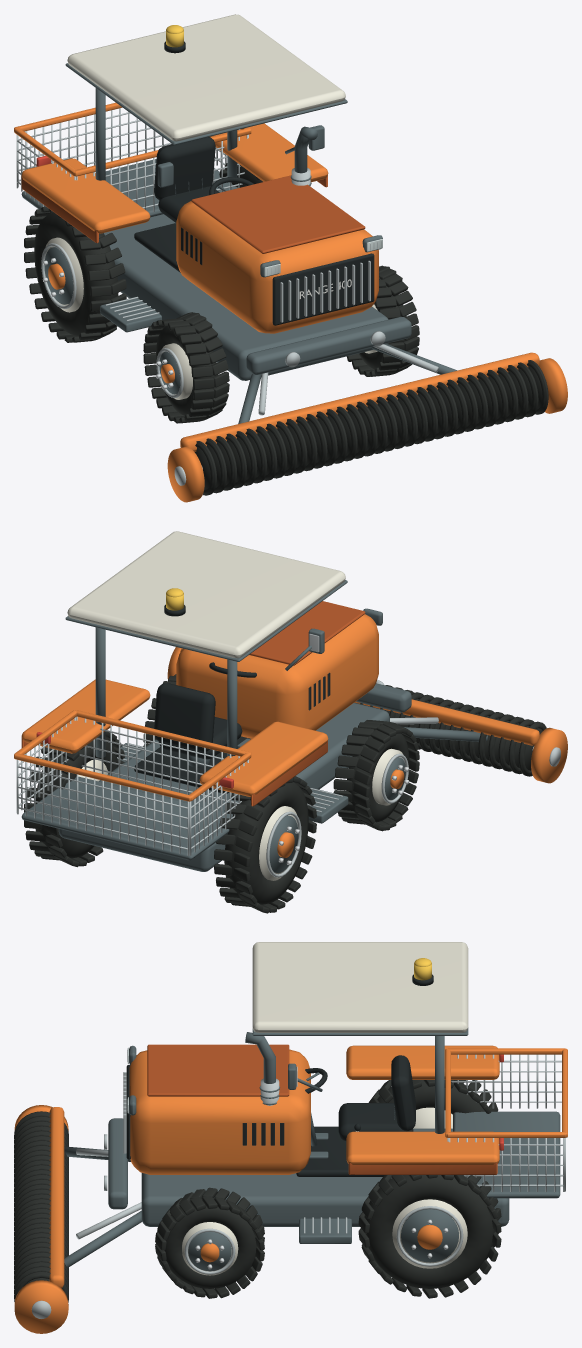
File: tractor-picker.glb
3 views of the same model, one above another, from view 1: azimuth 30°, elevation 25°; view 2: azimuth 150°, elevation 25°; view 3: azimuth 270°, elevation 25° (orthographic).
Parts seen in each view (by area): view 1: Hood, Chassis, Canopy, PickupDisk, Grille, HoodPanel, GrilleSlat, RadialTyre.001, RadialTyre, RadialTyre.002, RimInset.001, Rim.001 (+1 smaller); view 2: Hood, Chassis, Canopy, GrilleSlat, RadialTyre.001, Grille, RadialTyre, PickupDisk, HoodPanel, RadialTyre.003, RimInset.001, Rim.001 (+2 smaller); view 3: Hood, Chassis, Canopy, RadialTyre.003, HoodPanel, RadialTyre.002, PickupDisk, Grille, GrilleSlat, RadialTyre.001, RimInset.003, Rim.003 (+5 smaller).
Part boxes in pixels (bbox=[...]): Hood: bbox=[14, 102, 567, 502]; Chassis: bbox=[21, 63, 457, 423]; Canopy: bbox=[67, 14, 345, 141]; PickupDisk: bbox=[194, 360, 548, 495]; Grille: bbox=[134, 41, 374, 325]; HoodPanel: bbox=[21, 175, 365, 253]; GrilleSlat: bbox=[16, 108, 438, 485]; RadialTyre.001: bbox=[24, 206, 126, 342]; RadialTyre: bbox=[143, 312, 229, 423]; RadialTyre.002: bbox=[346, 265, 419, 376]; RimInset.001: bbox=[44, 247, 73, 304]; Rim.001: bbox=[44, 237, 83, 312]; Hood: bbox=[14, 614, 567, 801]; Chassis: bbox=[21, 580, 487, 871]; Canopy: bbox=[67, 531, 345, 658]; GrilleSlat: bbox=[16, 680, 560, 855]; RadialTyre.001: bbox=[214, 776, 316, 913]; Grille: bbox=[134, 604, 330, 793]; RadialTyre: bbox=[333, 720, 419, 831]; PickupDisk: bbox=[354, 685, 546, 776]; HoodPanel: bbox=[21, 601, 365, 806]; RadialTyre.003: bbox=[24, 731, 124, 867]; RimInset.001: bbox=[269, 815, 298, 873]; Rim.001: bbox=[259, 806, 297, 880]; Hood: bbox=[14, 1045, 567, 1333]; Chassis: bbox=[64, 1028, 560, 1267]; Canopy: bbox=[252, 942, 468, 1032]; RadialTyre.003: bbox=[358, 1175, 501, 1298]; HoodPanel: bbox=[147, 1044, 497, 1174]; RadialTyre.002: bbox=[155, 1187, 264, 1298]; PickupDisk: bbox=[14, 1111, 68, 1302]; Grille: bbox=[126, 974, 433, 1176]; GrilleSlat: bbox=[31, 1050, 565, 1318]; RadialTyre.001: bbox=[368, 1080, 498, 1114]; RimInset.003: bbox=[401, 1209, 458, 1262]; Rim.003: bbox=[392, 1199, 467, 1268].
Size of the model in its own units: 3.09 by 2.26 by 3.98.
